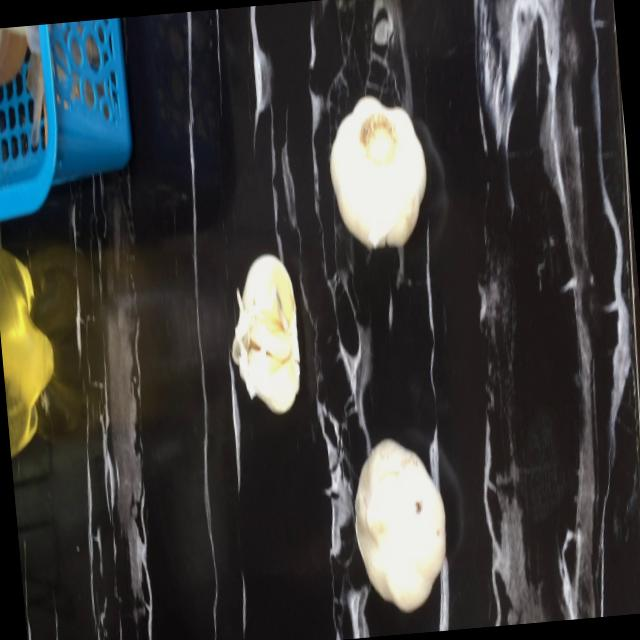garlic: (342, 428, 457, 622), (320, 87, 434, 257), (222, 248, 306, 421)
